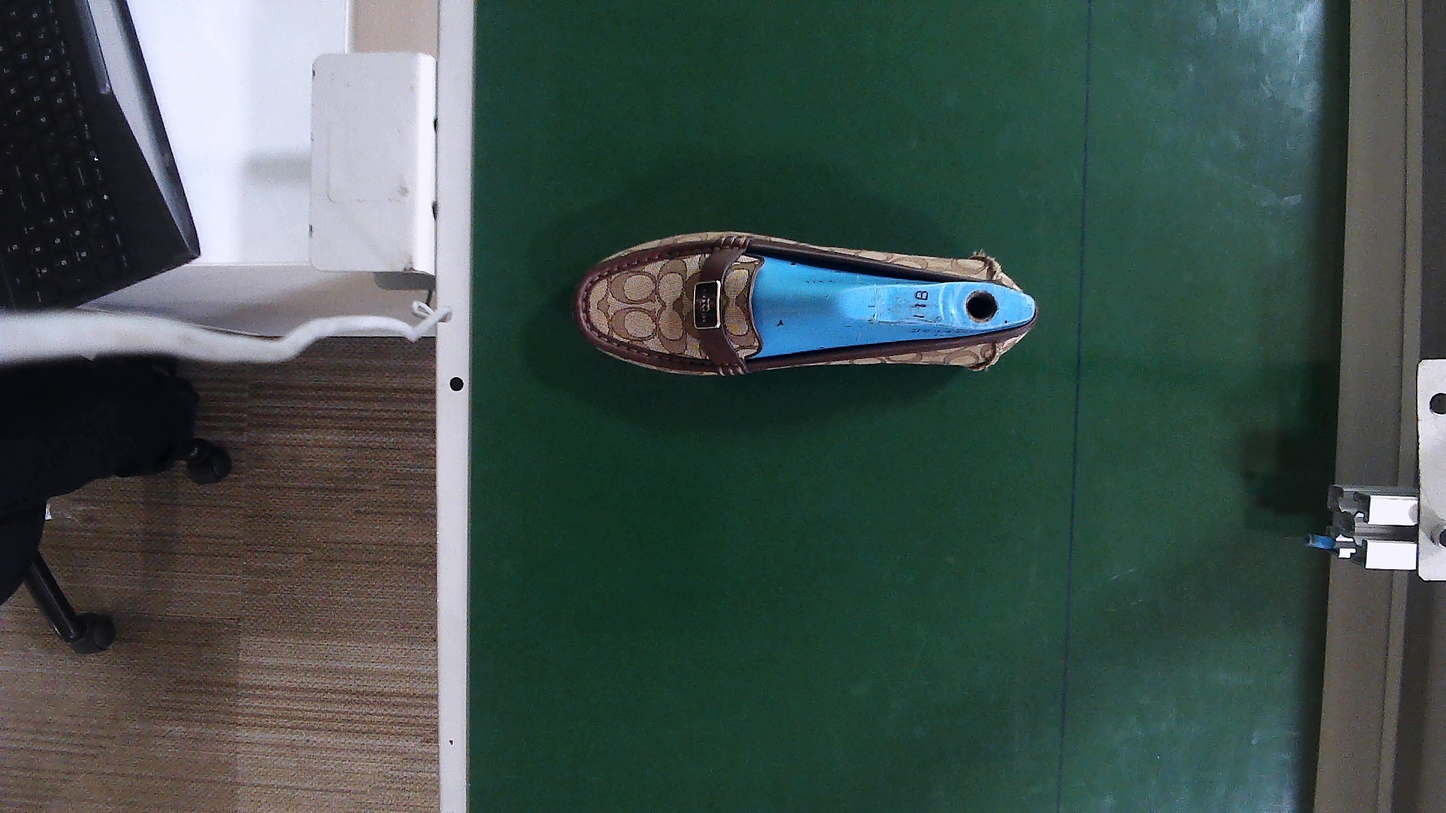shoe: (576, 236, 1035, 376)
